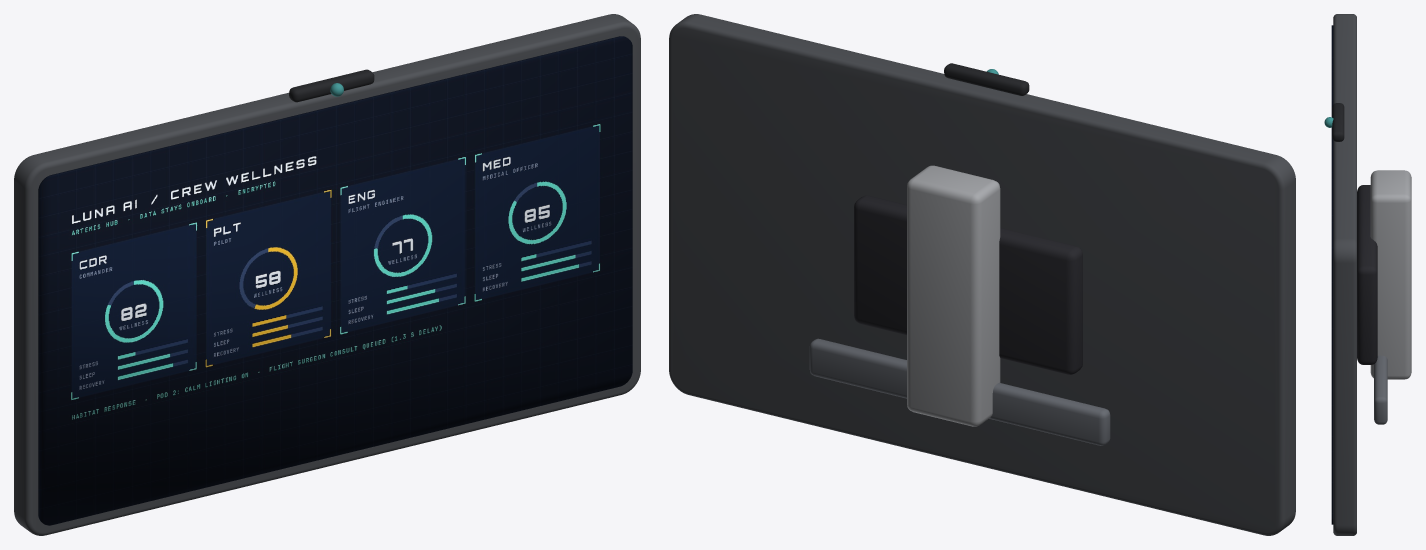
Rendered from LunaWall.glb.
3 views of the same model, side by side, from view 1: azimuth 30°, elevation 25°; view 2: azimuth 150°, elevation 25°; view 3: azimuth 270°, elevation 25° (orthographic). The views are drawn at different scales.
Visible parts, largest first — view 1: Display, Frame, SensorBar; view 2: Frame, Mount, Compute, Cooling, SensorBar; view 3: Frame, Mount, Compute, Display, Cooling, SensorBar.
Boxes of the visible parts, bbox=[...] form: Display: bbox=[38, 36, 632, 525]; Frame: bbox=[14, 14, 640, 535]; SensorBar: bbox=[289, 69, 374, 102]; Frame: bbox=[669, 14, 1295, 535]; Mount: bbox=[907, 165, 1000, 426]; Compute: bbox=[854, 195, 1082, 374]; Cooling: bbox=[809, 338, 1110, 445]; SensorBar: bbox=[944, 63, 1029, 95]; Frame: bbox=[1333, 14, 1356, 535]; Mount: bbox=[1370, 170, 1411, 379]; Compute: bbox=[1357, 185, 1377, 364]; Display: bbox=[1331, 25, 1333, 524]; Cooling: bbox=[1374, 355, 1387, 424]; SensorBar: bbox=[1332, 103, 1344, 141].
Size of the model in its own units: 0.2 by 0.1194 by 0.0308.
7 materials, 1 textured.
